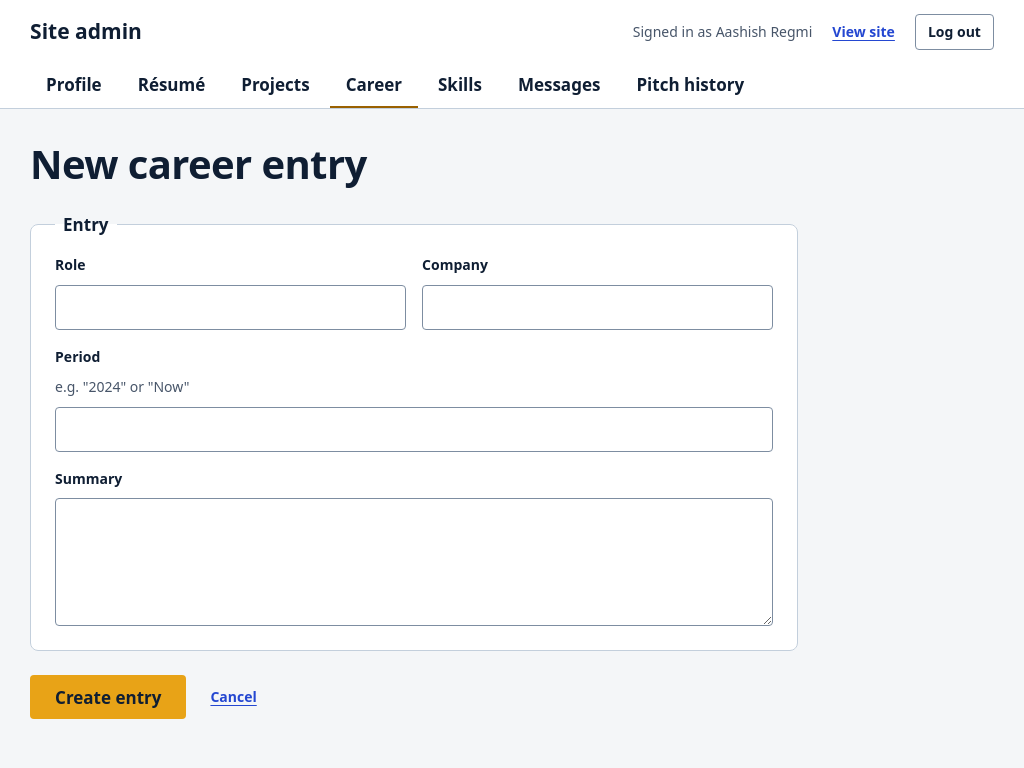
career and skills › creates a career entry
In the field labelled "Role": x=231, y=307 [55,285,406,330], type "Backend engineer"
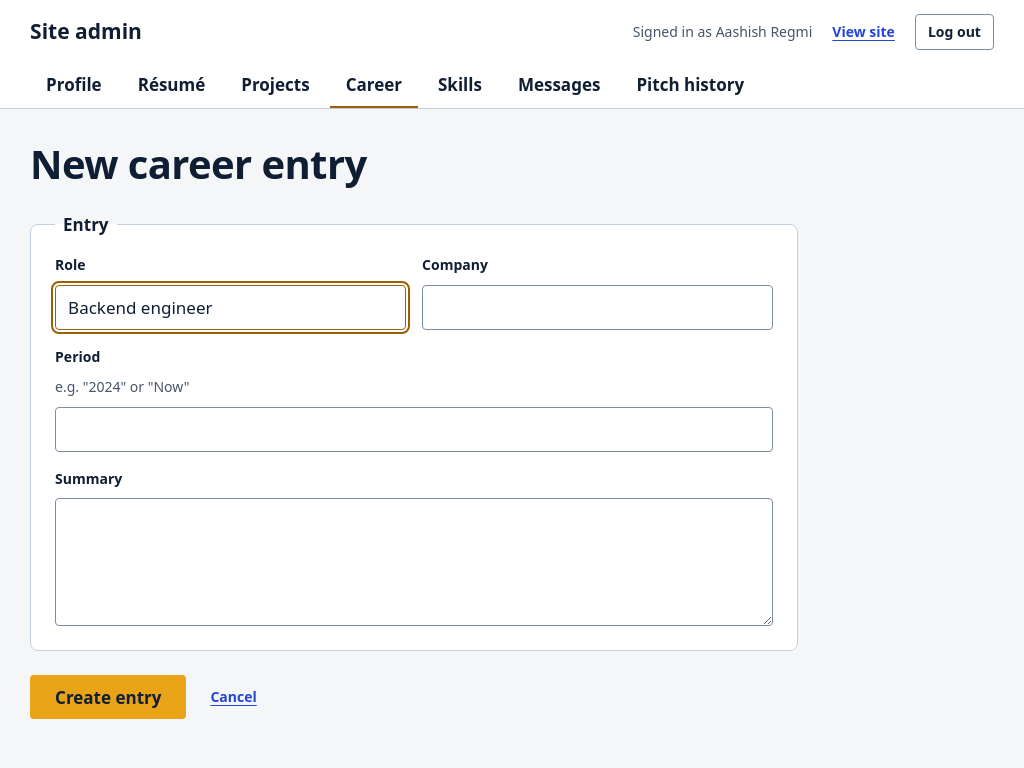
In the field labelled "Company": x=598, y=307 [422,285,773,330], type "Acme"
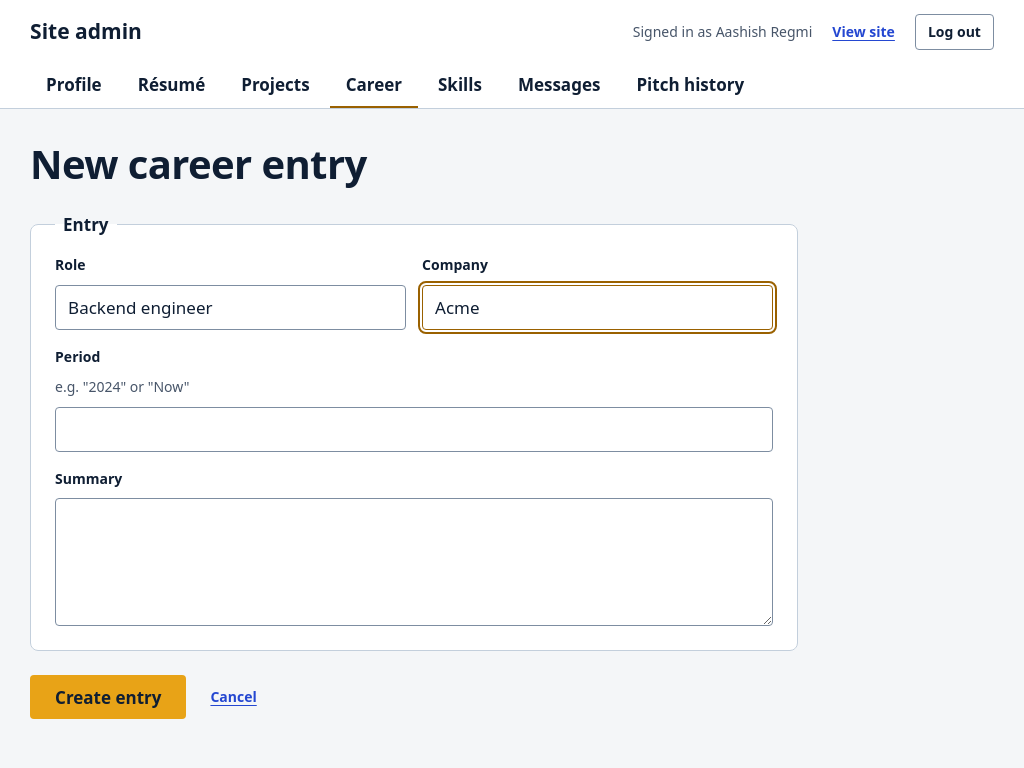
In the field labelled "Period": x=414, y=429 [55,406,773,452], type "2027"
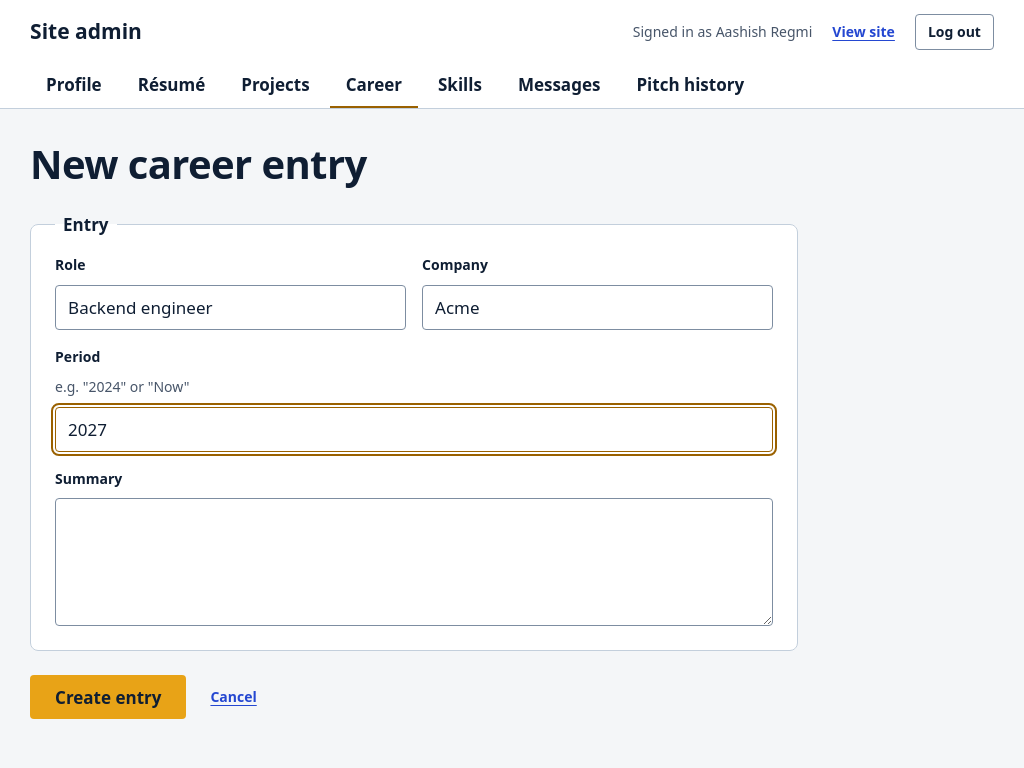
In the text box labelled "Summary": x=414, y=562 [55,498,773,626], type "Built things."
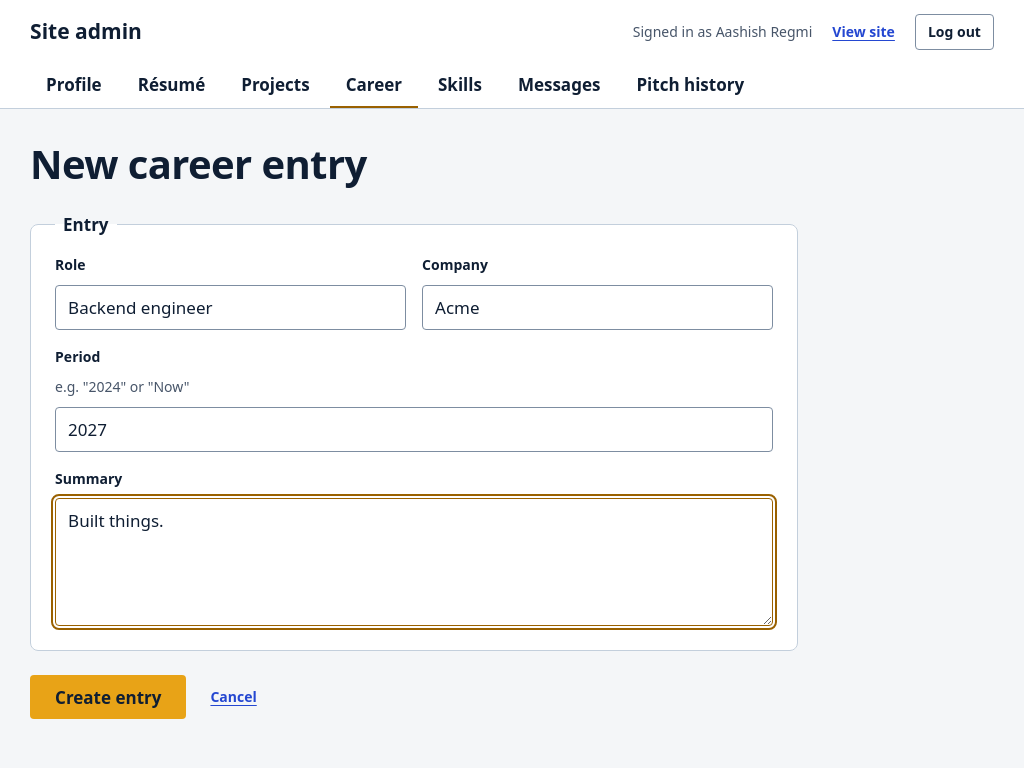
Click the button "Create entry": x=108, y=697 [30,675,186,719]
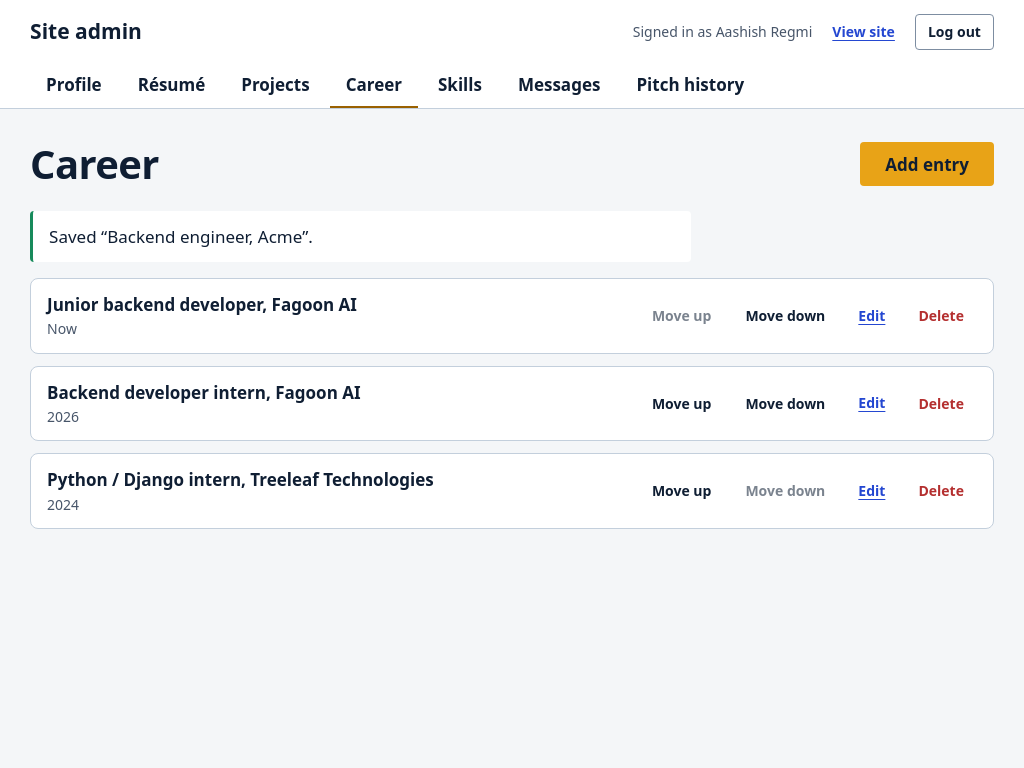
Now the text "Saved “Backend engineer, Acme”." is shown, box [30,211,691,262]
